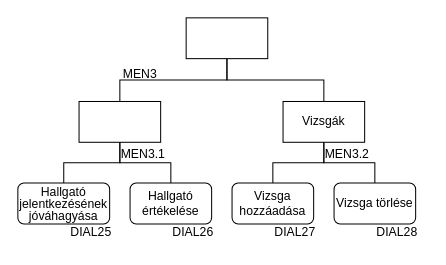
Image size: 446x265. Some labels were removed from this diagram. The centre of each missing label's shape, as x and y in pixels:
"Kurzusok" goes at pixel 119 121.
"Oktató Főmenü" goes at pixel 226 38.
